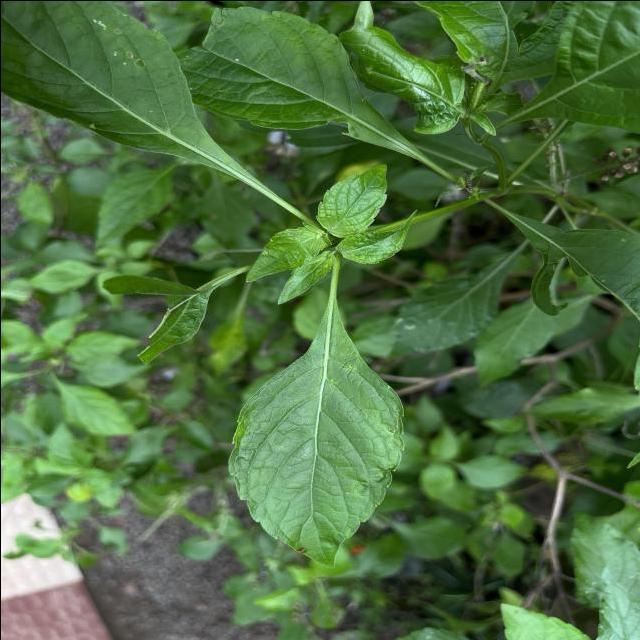Ocimum gratissimum: (224, 293, 409, 572), (0, 0, 255, 188)
